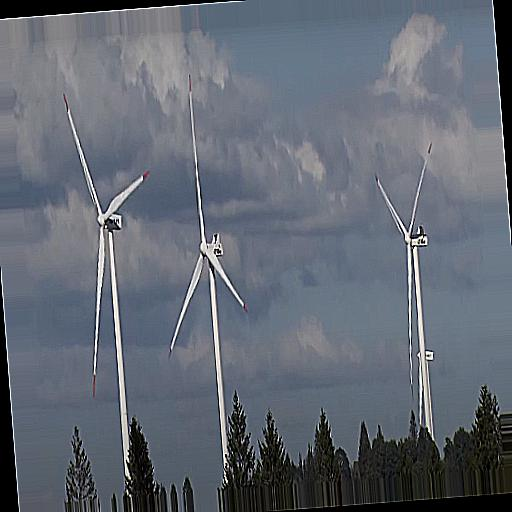wind turbine: (60, 92, 152, 475), (169, 74, 248, 486), (375, 142, 436, 433)
